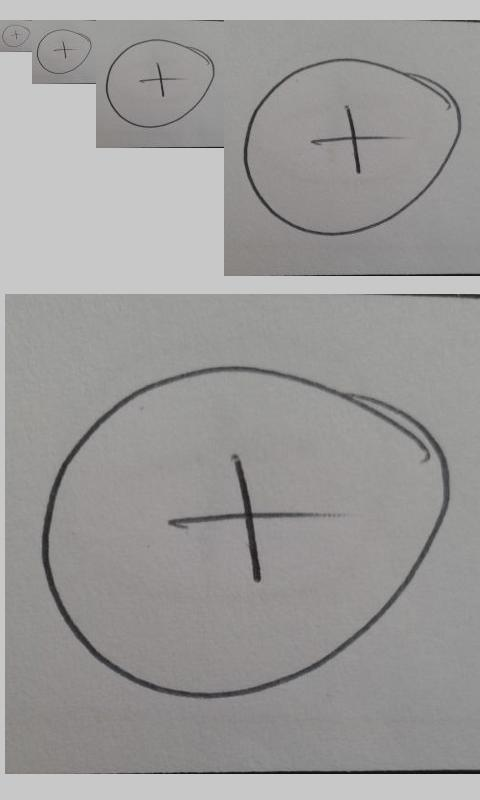button: (36, 363, 453, 702), (243, 57, 463, 237), (105, 38, 216, 129), (36, 28, 92, 75), (1, 24, 31, 48)
